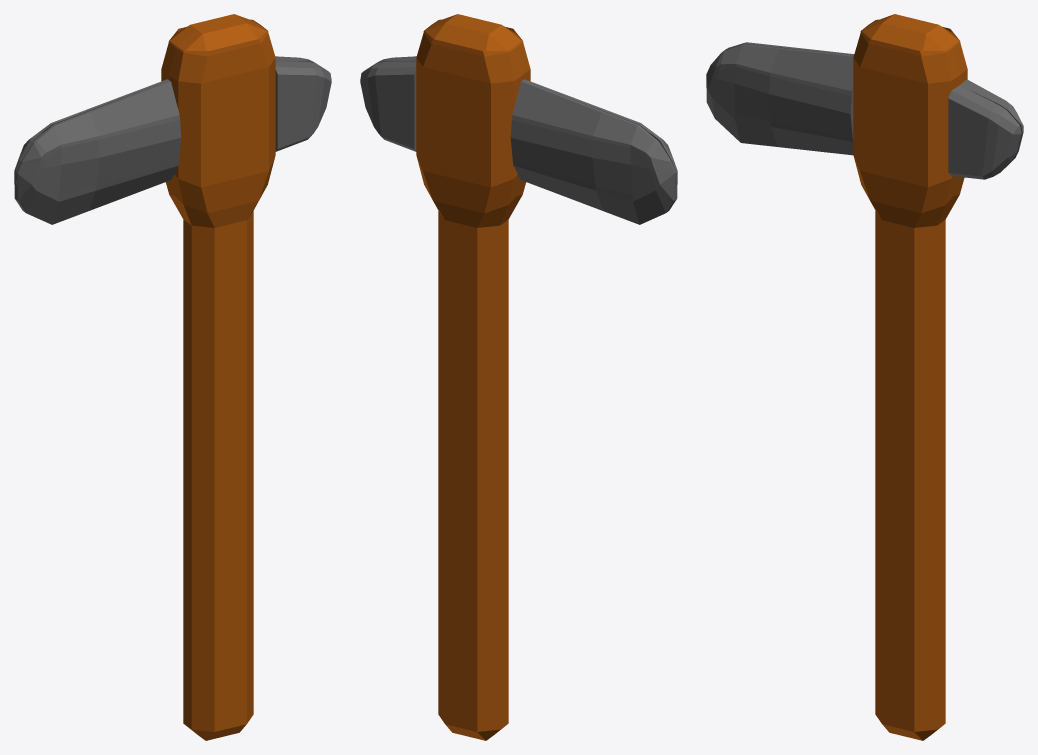
File: axe-obj-ver_1.0.fbx
3 views of the same model, side by side, from view 1: azimuth 30°, elevation 25°; view 2: azimuth 150°, elevation 25°; view 3: azimuth 330°, elevation 25° (orthographic).
Visible parts, largest first — view 1: handle, axe-blae; view 2: handle, axe-blae; view 3: handle, axe-blae.
Part boxes in pixels (x1,y1,x2,y2): handle: [161, 14, 275, 740]; axe-blae: [14, 56, 331, 224]; handle: [416, 14, 530, 740]; axe-blae: [360, 56, 677, 224]; handle: [853, 14, 967, 740]; axe-blae: [706, 42, 1023, 179].
Bounding box in the file's own units: 221 × 477 × 40.34.
